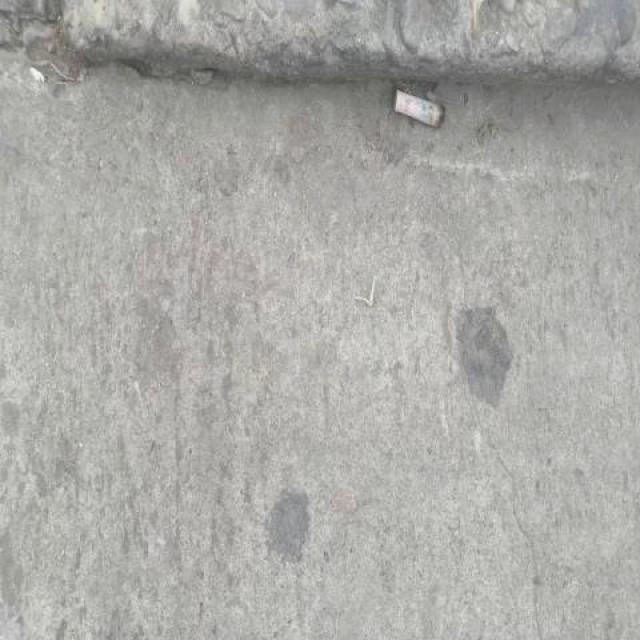non-organic waste: (388, 84, 448, 133)
